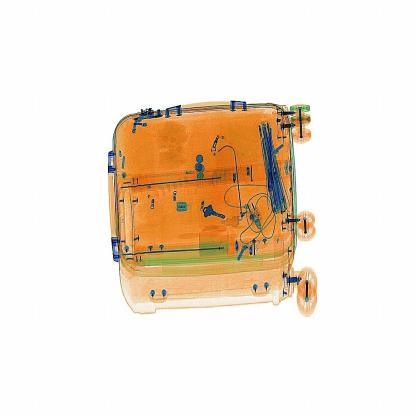pliers: (258, 123, 281, 193)
